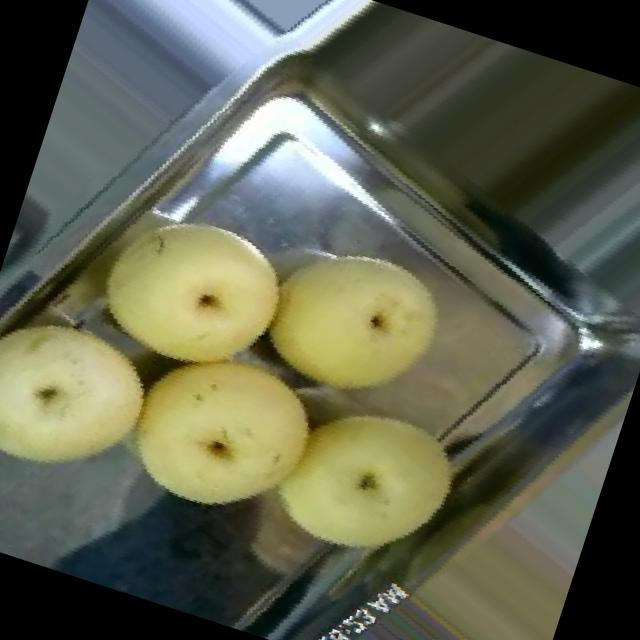Fruit: (220, 345, 510, 621), (79, 287, 367, 564), (218, 186, 500, 456), (53, 159, 330, 424), (350, 440, 599, 640), (0, 265, 193, 519)
